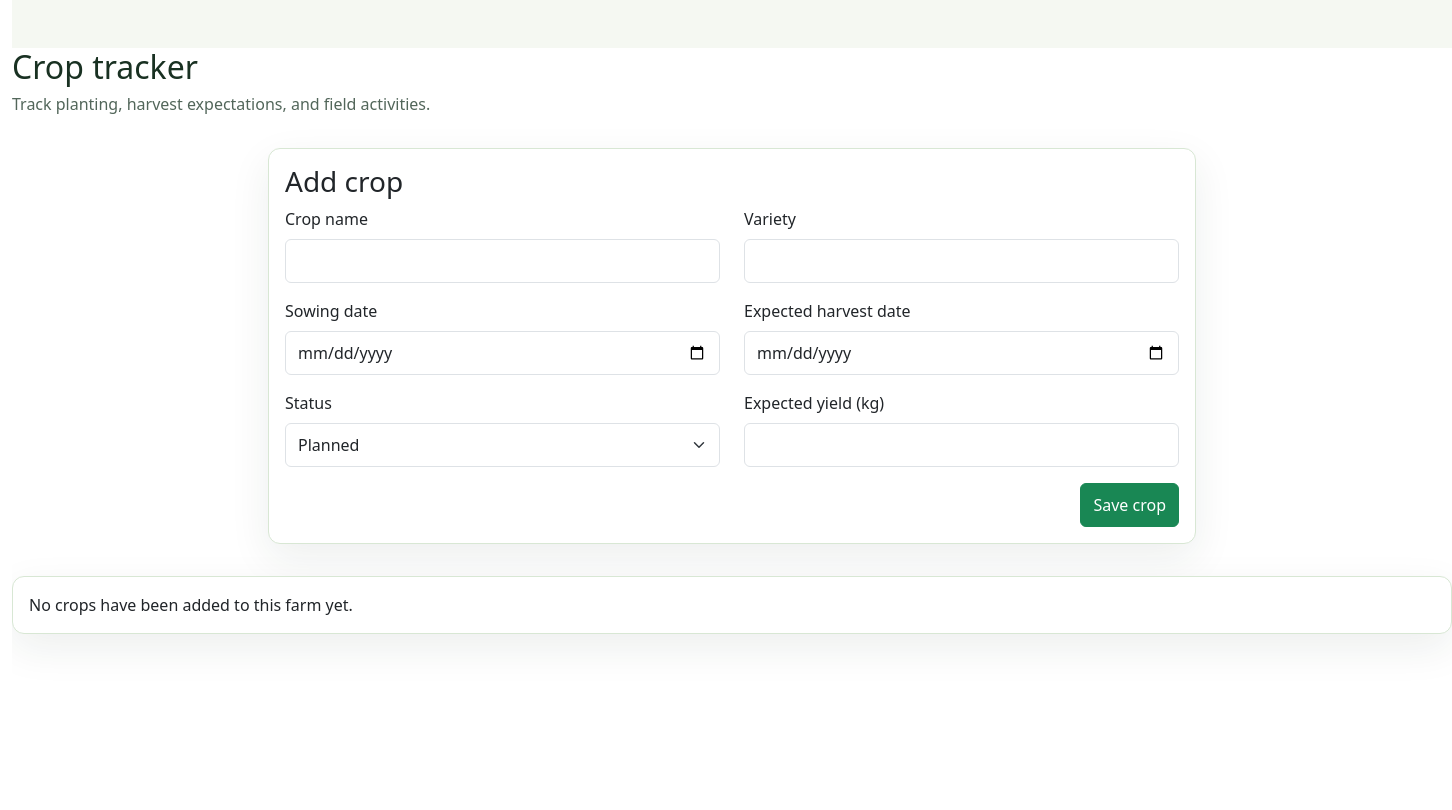
Test: CropTracker › validates the crop form before saving
What coordinates should you click on to do the following:
click the button "Save crop"
I would click on:
 (1130, 505)
Its box is [1080,483,1179,527].
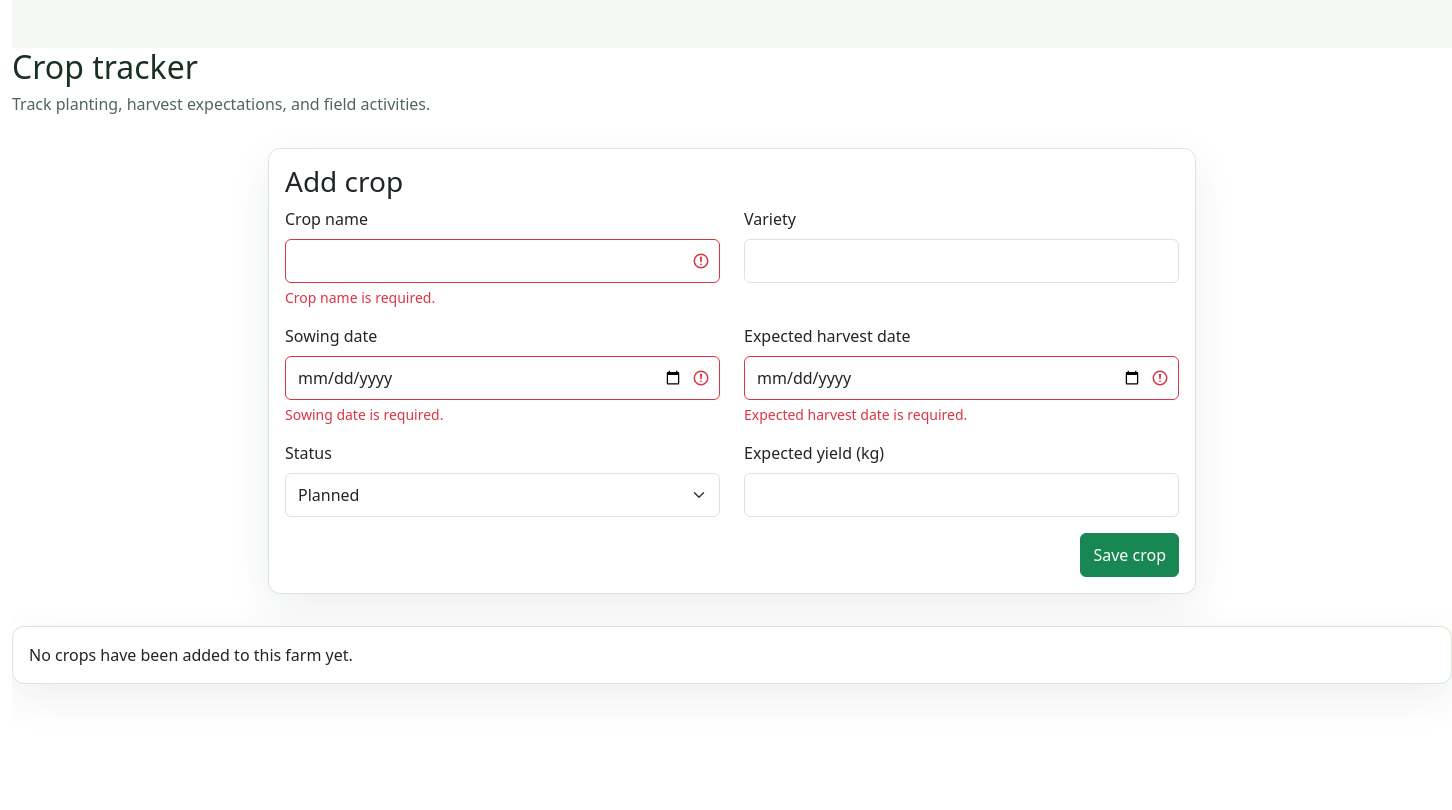
Result: the text "Crop name is required." is shown at [285,288,435,307]
Result: the text "Sowing date is required." is shown at [285,405,443,424]
Result: the text "Expected harvest date is required." is shown at [744,405,967,424]
